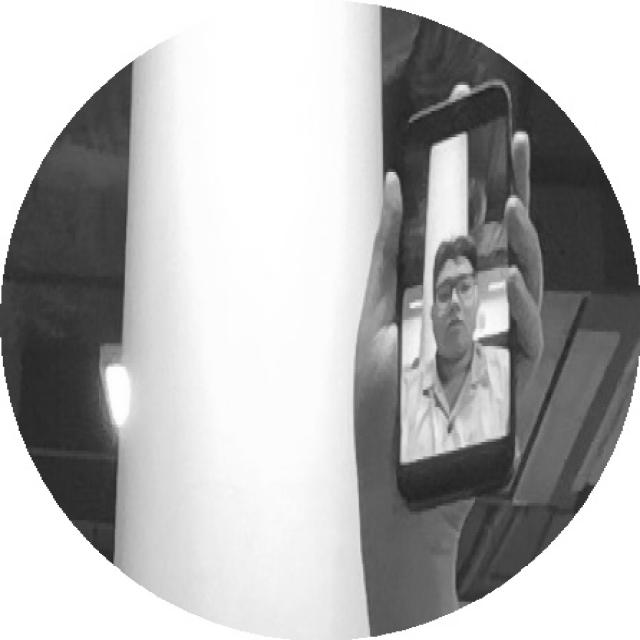fake: (362, 61, 561, 521), (389, 82, 535, 515)
